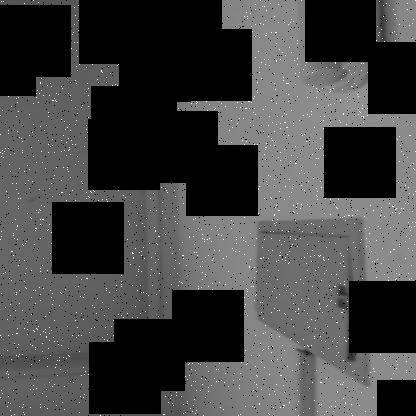Porte: (0, 1, 168, 378)
